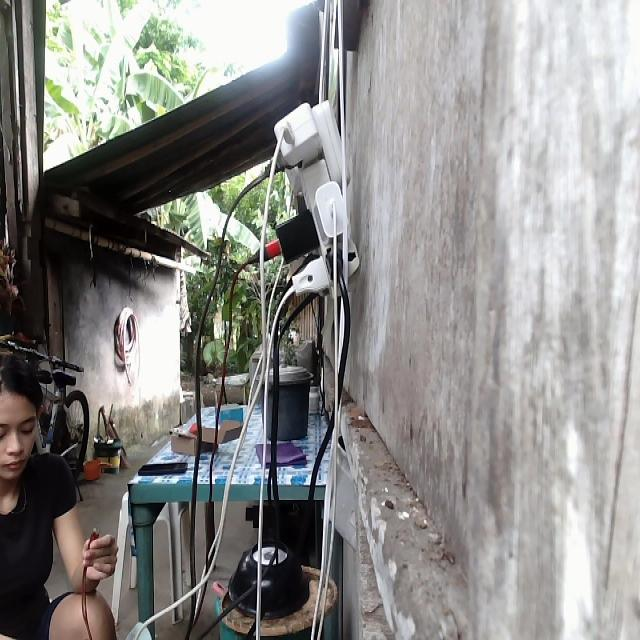-: (263, 98, 362, 298)
